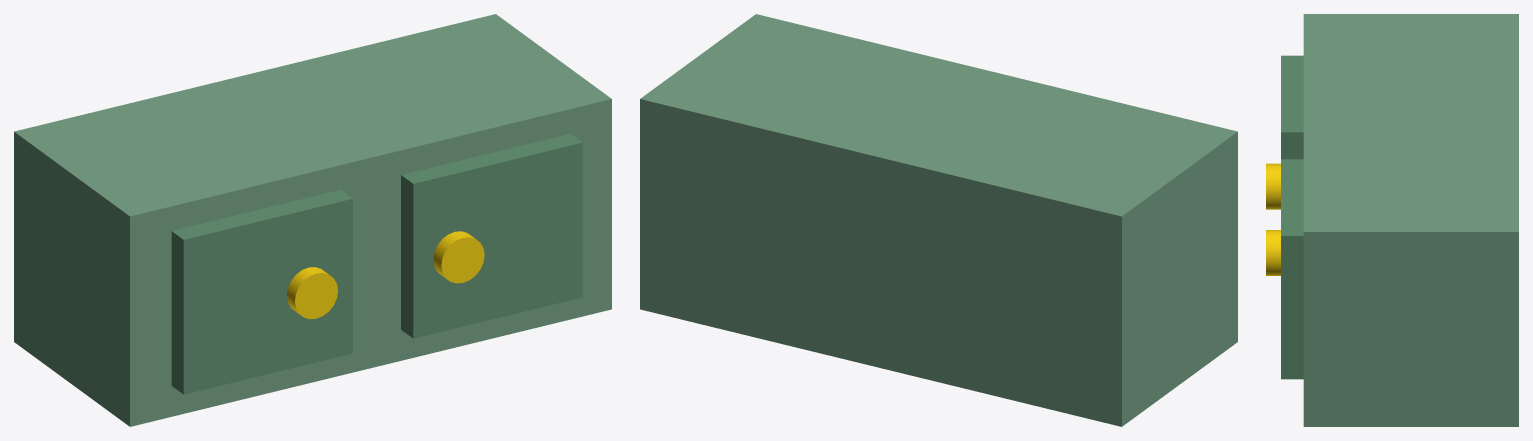
The model's file is WallCupboard.fbx.
The picture shows the model from 3 angles, left to right: view 1: azimuth 30°, elevation 25°; view 2: azimuth 150°, elevation 25°; view 3: azimuth 270°, elevation 25°; orthographic projection. The views are drawn at different scales.
Visible parts, largest first — view 1: pCube1, pCylinder2, pCylinder1; view 2: pCube1; view 3: pCube1, pCylinder1, pCylinder2.
Boxes of the visible parts, x1,y1,x2,y2 form: pCube1: (14, 14, 611, 426); pCylinder2: (433, 231, 484, 283); pCylinder1: (286, 267, 337, 319); pCube1: (640, 14, 1237, 426); pCube1: (1281, 14, 1518, 426); pCylinder1: (1266, 163, 1280, 209); pCylinder2: (1266, 230, 1280, 275).
Bounding box in the file's own units: 97.34 × 40.62 × 47.72.
